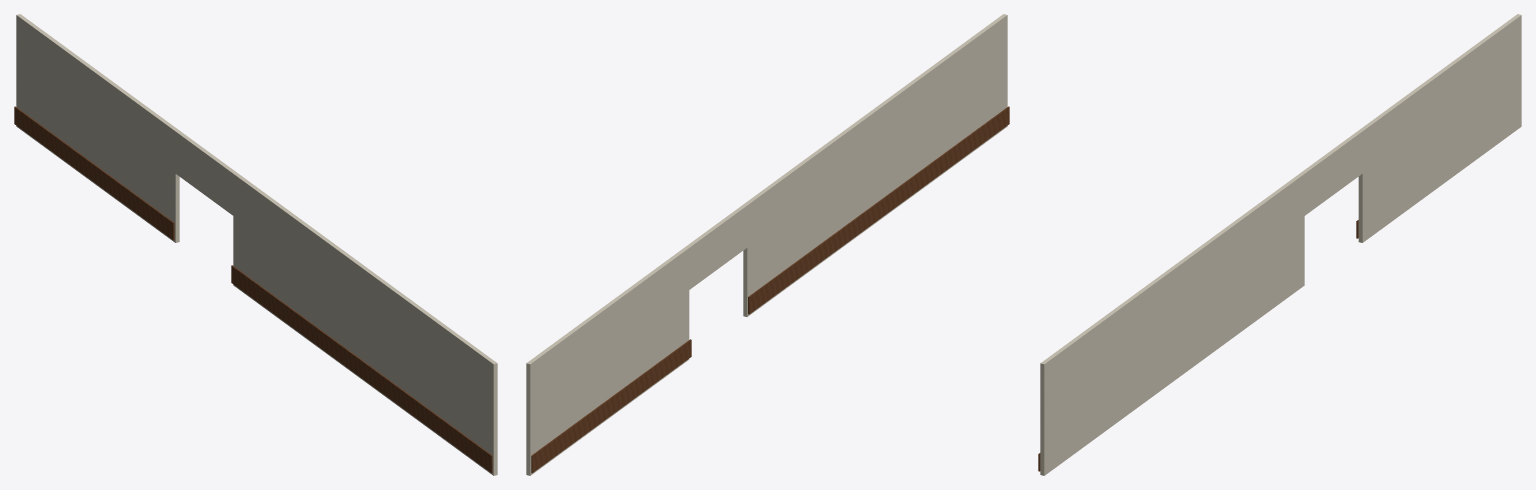
File: doorway_replacement_pieces.glb
3 renders of one model, left to right at view 1: azimuth 30°, elevation 25°; view 2: azimuth 150°, elevation 25°; view 3: azimuth 330°, elevation 25°, orthographic.
Parts seen in each view (by area): view 1: CORE_OuterWall_02_1_Uniforms_Aft, CORE_OuterWall_02_1_Uniforms_Fore, CORE_WallDado_02_1_Uniforms_Aft, CORE_WallDado_02_1_Uniforms_Fore, CORE_OuterWall_02_1_Uniforms_Header; view 2: CORE_OuterWall_02_1_Uniforms_Aft, CORE_OuterWall_02_1_Uniforms_Fore, CORE_WallDado_02_1_Uniforms_Aft, CORE_WallDado_02_1_Uniforms_Fore, CORE_OuterWall_02_1_Uniforms_Header; view 3: CORE_OuterWall_02_1_Uniforms_Aft, CORE_OuterWall_02_1_Uniforms_Fore, CORE_OuterWall_02_1_Uniforms_Header.
Part boxes in pixels (x1,y1,x2,y2): CORE_OuterWall_02_1_Uniforms_Aft: (233,173,497,475); CORE_OuterWall_02_1_Uniforms_Fore: (16,14,179,242); CORE_WallDado_02_1_Uniforms_Aft: (231,265,492,473); CORE_WallDado_02_1_Uniforms_Fore: (14,106,174,240); CORE_OuterWall_02_1_Uniforms_Header: (175,130,236,215); CORE_OuterWall_02_1_Uniforms_Aft: (743,14,1007,316); CORE_OuterWall_02_1_Uniforms_Fore: (526,247,689,475); CORE_WallDado_02_1_Uniforms_Aft: (748,106,1009,314); CORE_WallDado_02_1_Uniforms_Fore: (531,339,691,473); CORE_OuterWall_02_1_Uniforms_Header: (685,204,747,289); CORE_OuterWall_02_1_Uniforms_Aft: (1040,173,1304,475); CORE_OuterWall_02_1_Uniforms_Fore: (1358,14,1521,242); CORE_OuterWall_02_1_Uniforms_Header: (1301,130,1362,215).
Bounding box in the file's own units: 0.245 × 4.26 × 33.
2 materials, 2 textured.
